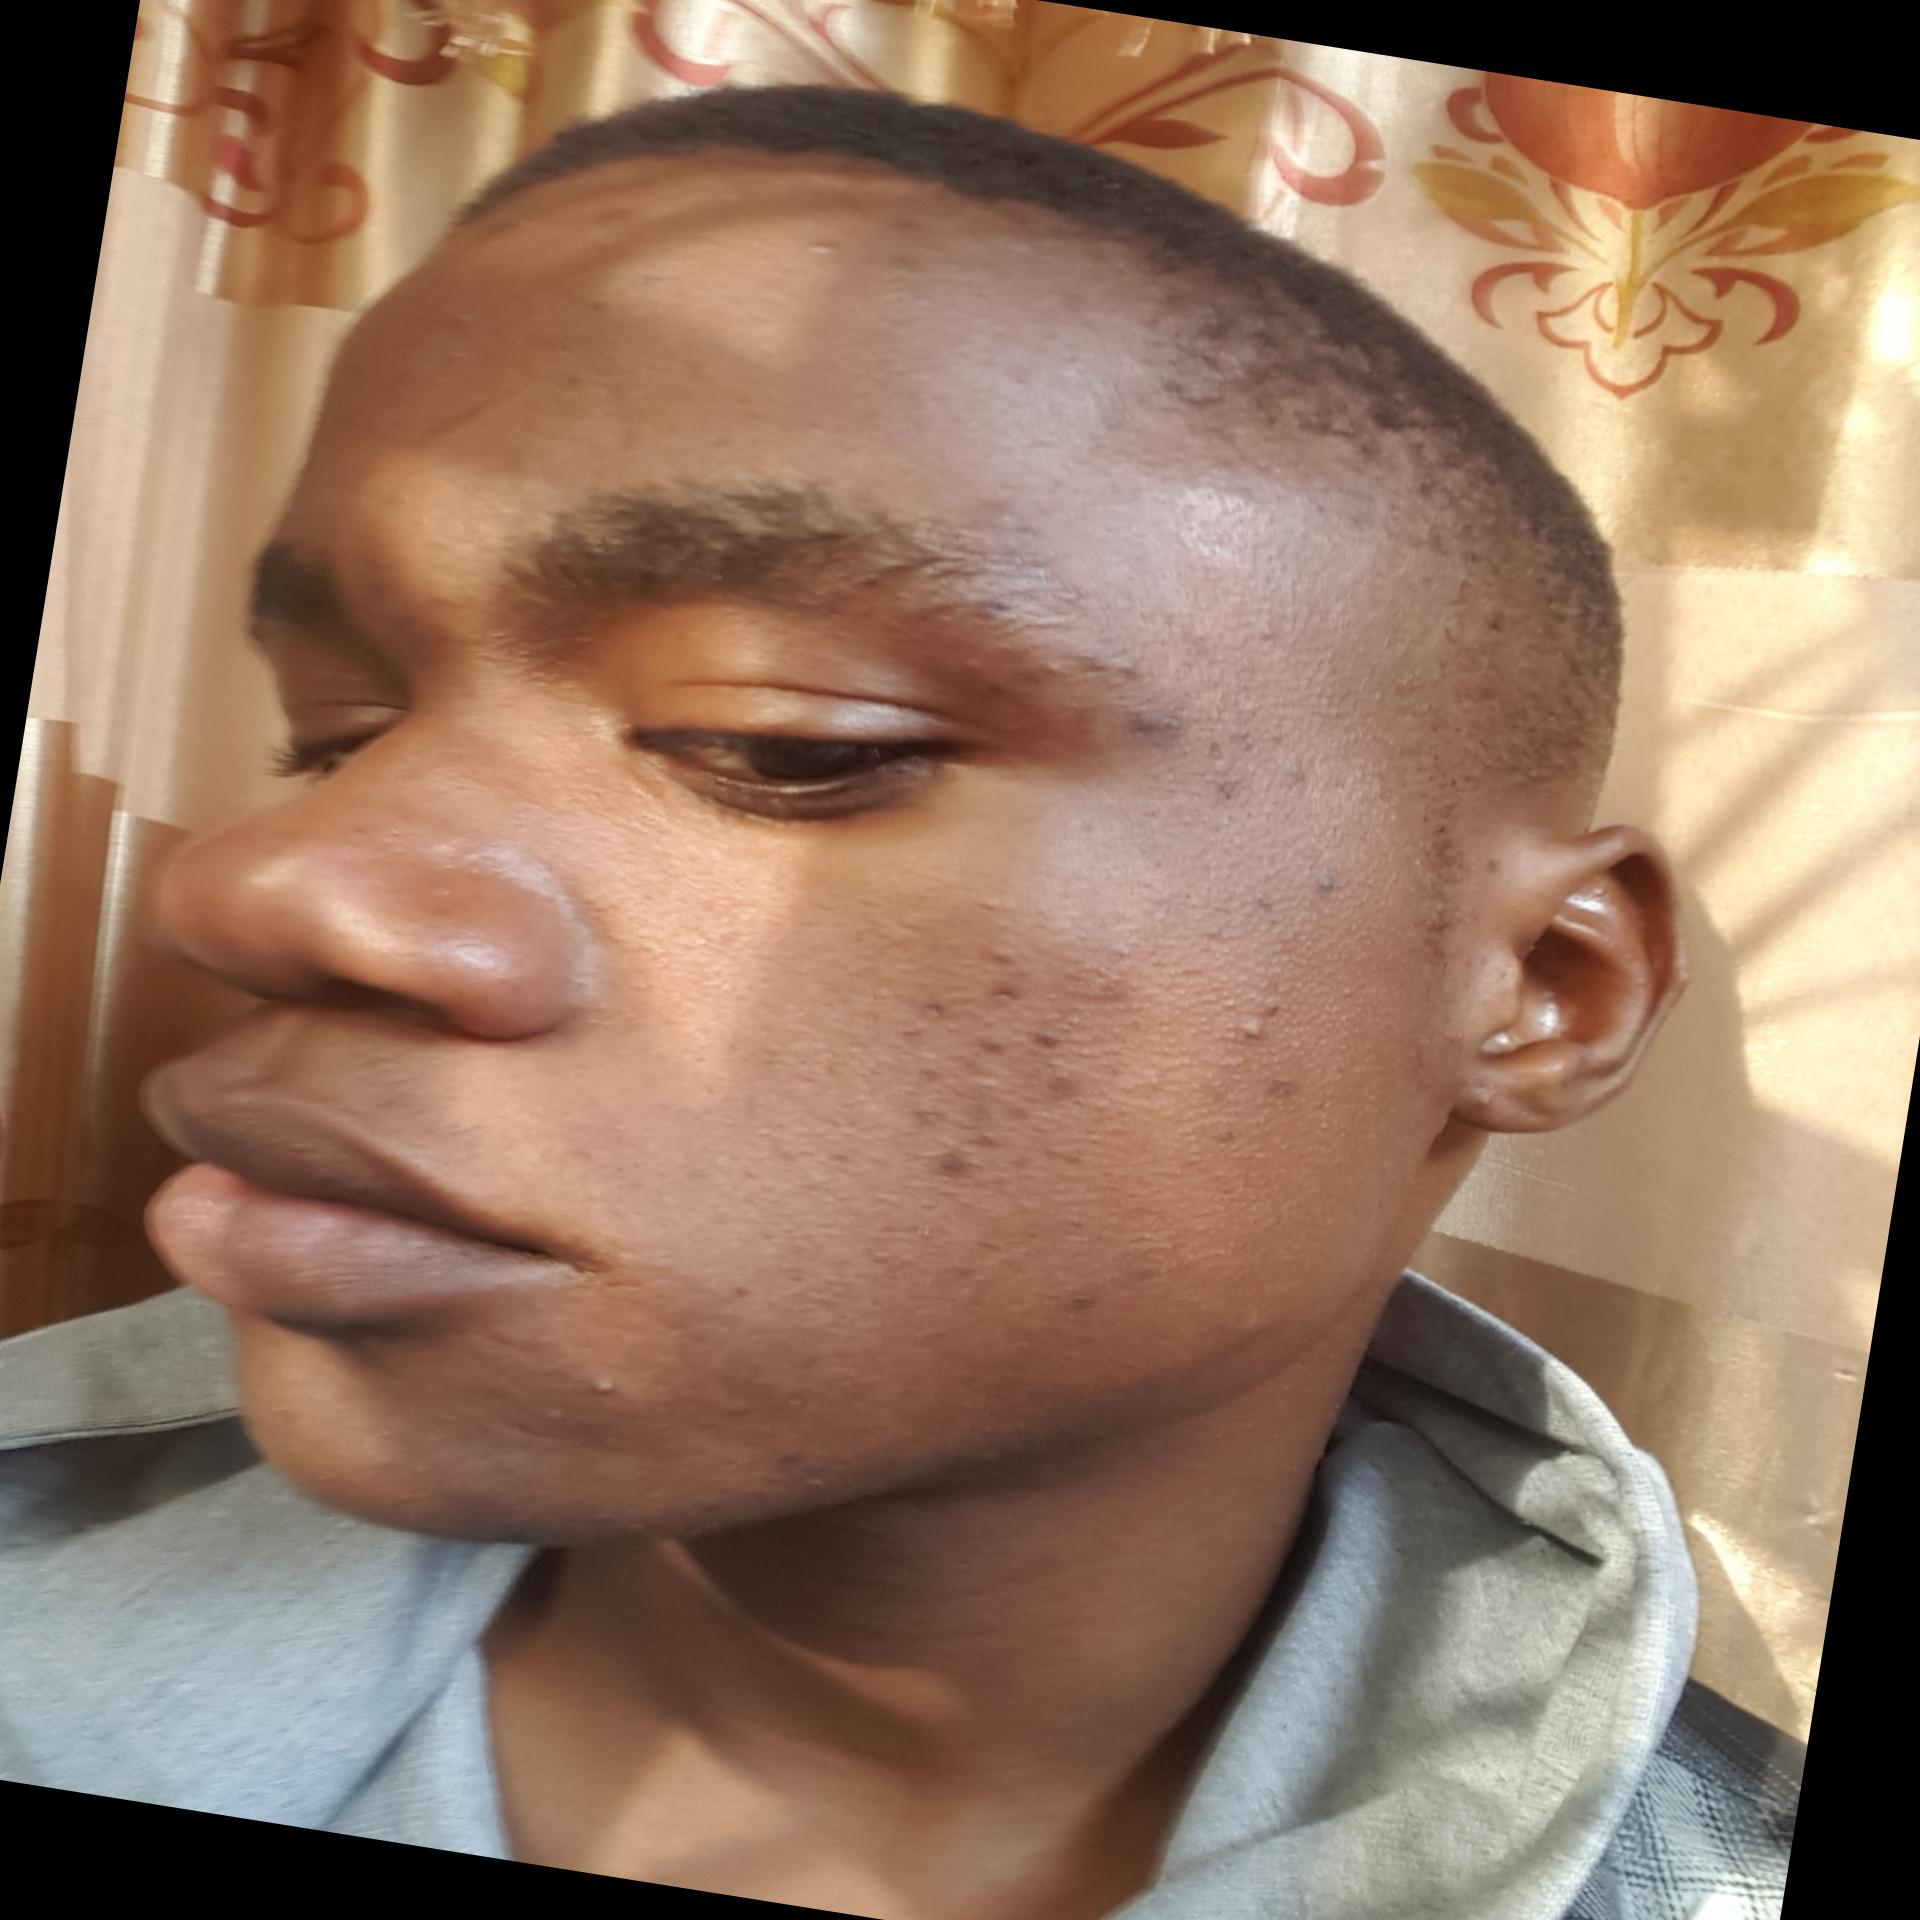Acne: (893, 1037, 1104, 1194), (847, 962, 1115, 1065), (1102, 673, 1197, 744), (1064, 953, 1143, 1016), (709, 1370, 789, 1431), (1187, 1115, 1255, 1171), (1036, 1276, 1095, 1333), (1194, 765, 1257, 816), (573, 1363, 638, 1410), (545, 353, 612, 399), (520, 1396, 580, 1447), (1225, 1011, 1291, 1057), (1261, 1065, 1331, 1108), (1287, 860, 1345, 905), (1240, 886, 1289, 935), (436, 295, 489, 338), (793, 227, 851, 264), (969, 932, 1022, 972), (883, 246, 932, 283), (585, 294, 617, 315)
